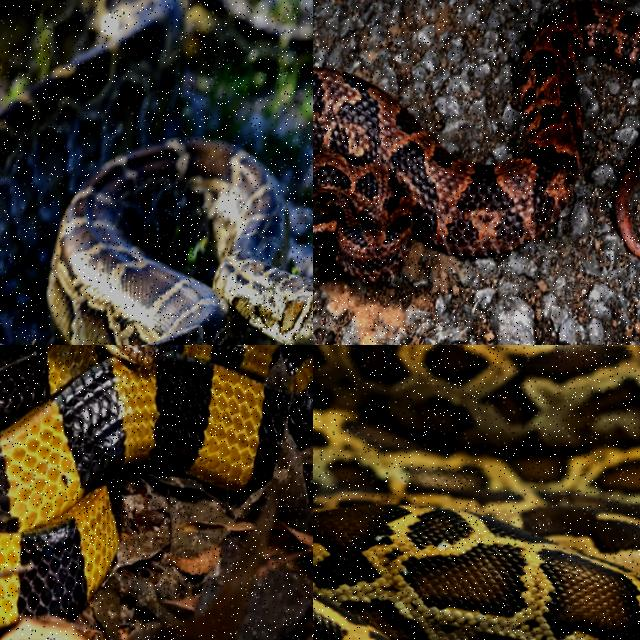Bungarus fasciatus: (0, 345, 312, 628)
Ovophis monticola: (313, 2, 639, 280)
Python bivittatus: (0, 0, 312, 344), (313, 345, 639, 639)
